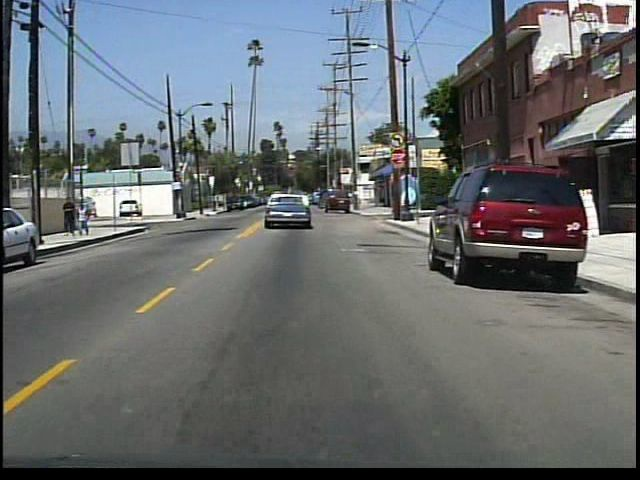person: (63, 194, 80, 235), (77, 201, 94, 237)
